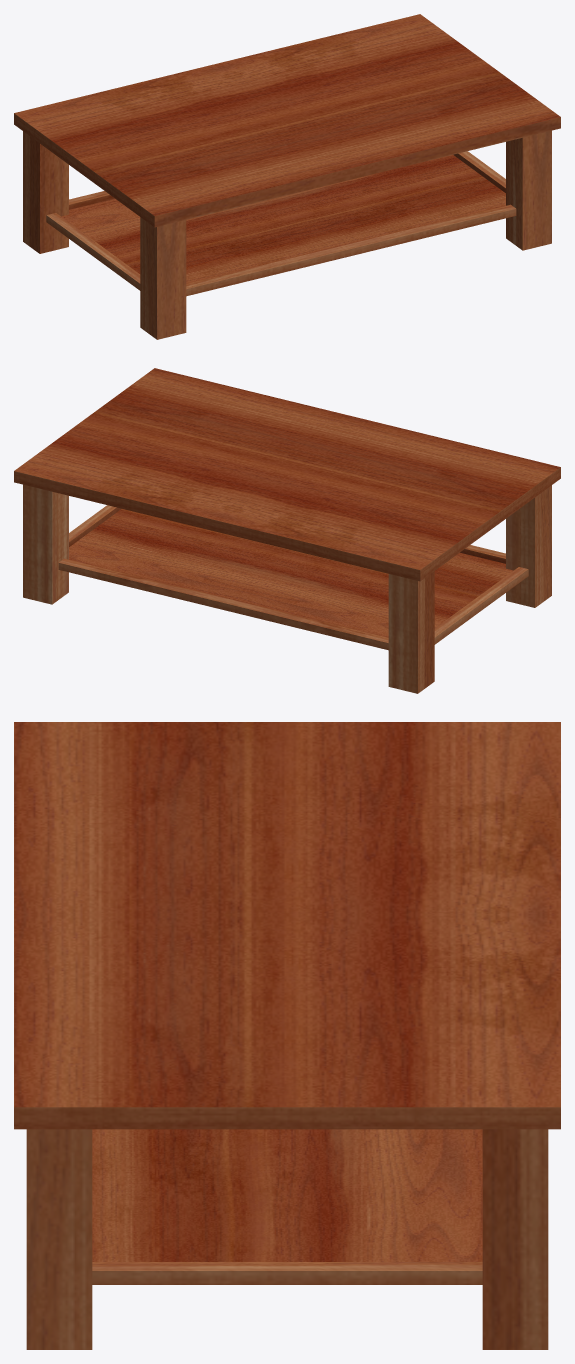
Rendered from Table 1 V2.glb.
3 renders of one model, top to bottom at view 1: azimuth 30°, elevation 25°; view 2: azimuth 150°, elevation 25°; view 3: azimuth 270°, elevation 25°, orthographic. The views are drawn at different scales.
Visible parts, largest first — view 1: Table 1.002; view 2: Table 1.002; view 3: Table 1.002.
Part boxes in pixels (<box>): Table 1.002: <box>14,14,560,339</box>; Table 1.002: <box>14,368,560,693</box>; Table 1.002: <box>14,722,560,1349</box>.
Size of what is drawn, in the model's own units: 1.87 by 0.5611 by 1.12.
Materials: 1 (1 with a texture image).
